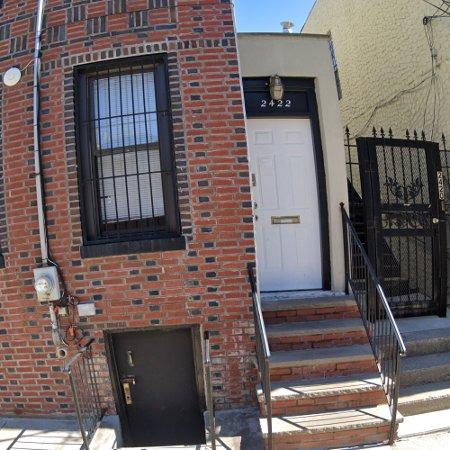stairs: (264, 296, 390, 450), (364, 315, 450, 417)
